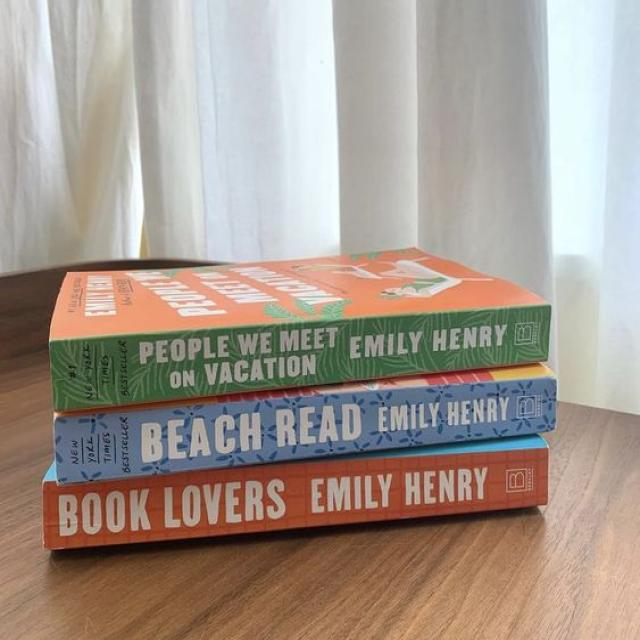book: (55, 366, 556, 485), (43, 438, 549, 549), (54, 305, 550, 410)
